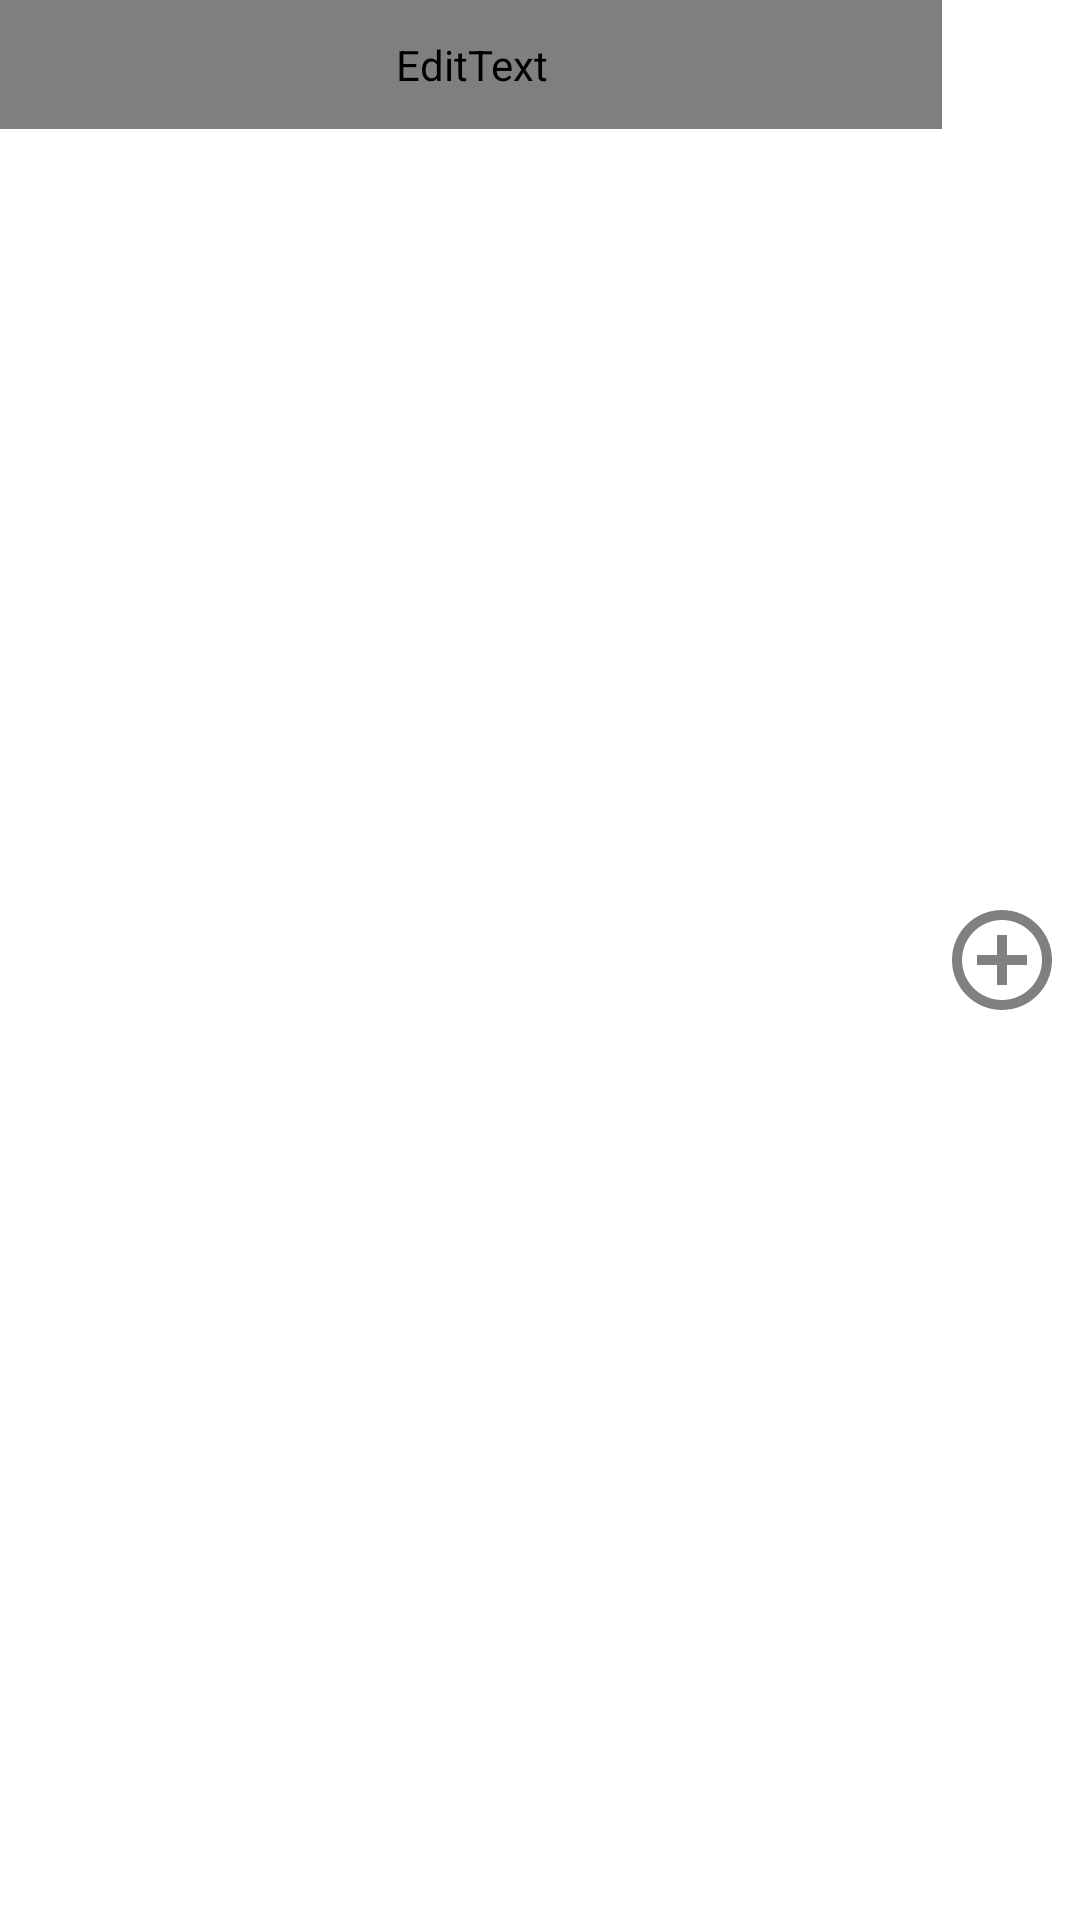

Icon click points for this 1080 x 1920 phone screenshot, format (x=x, y=y):
add: (x=1002, y=960)
